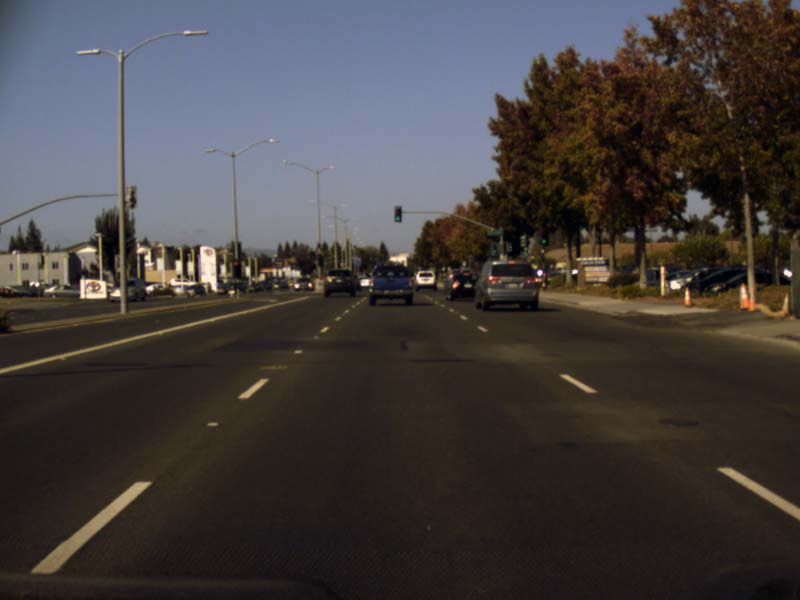Green: (393, 205, 401, 221), (540, 231, 548, 246), (492, 245, 497, 256)
